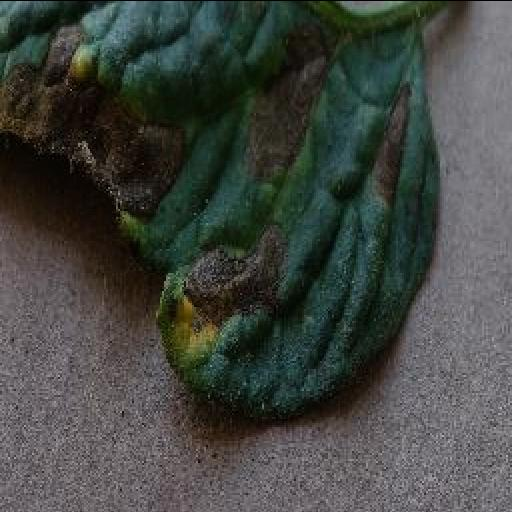disease_tomato: (2, 0, 446, 418)
